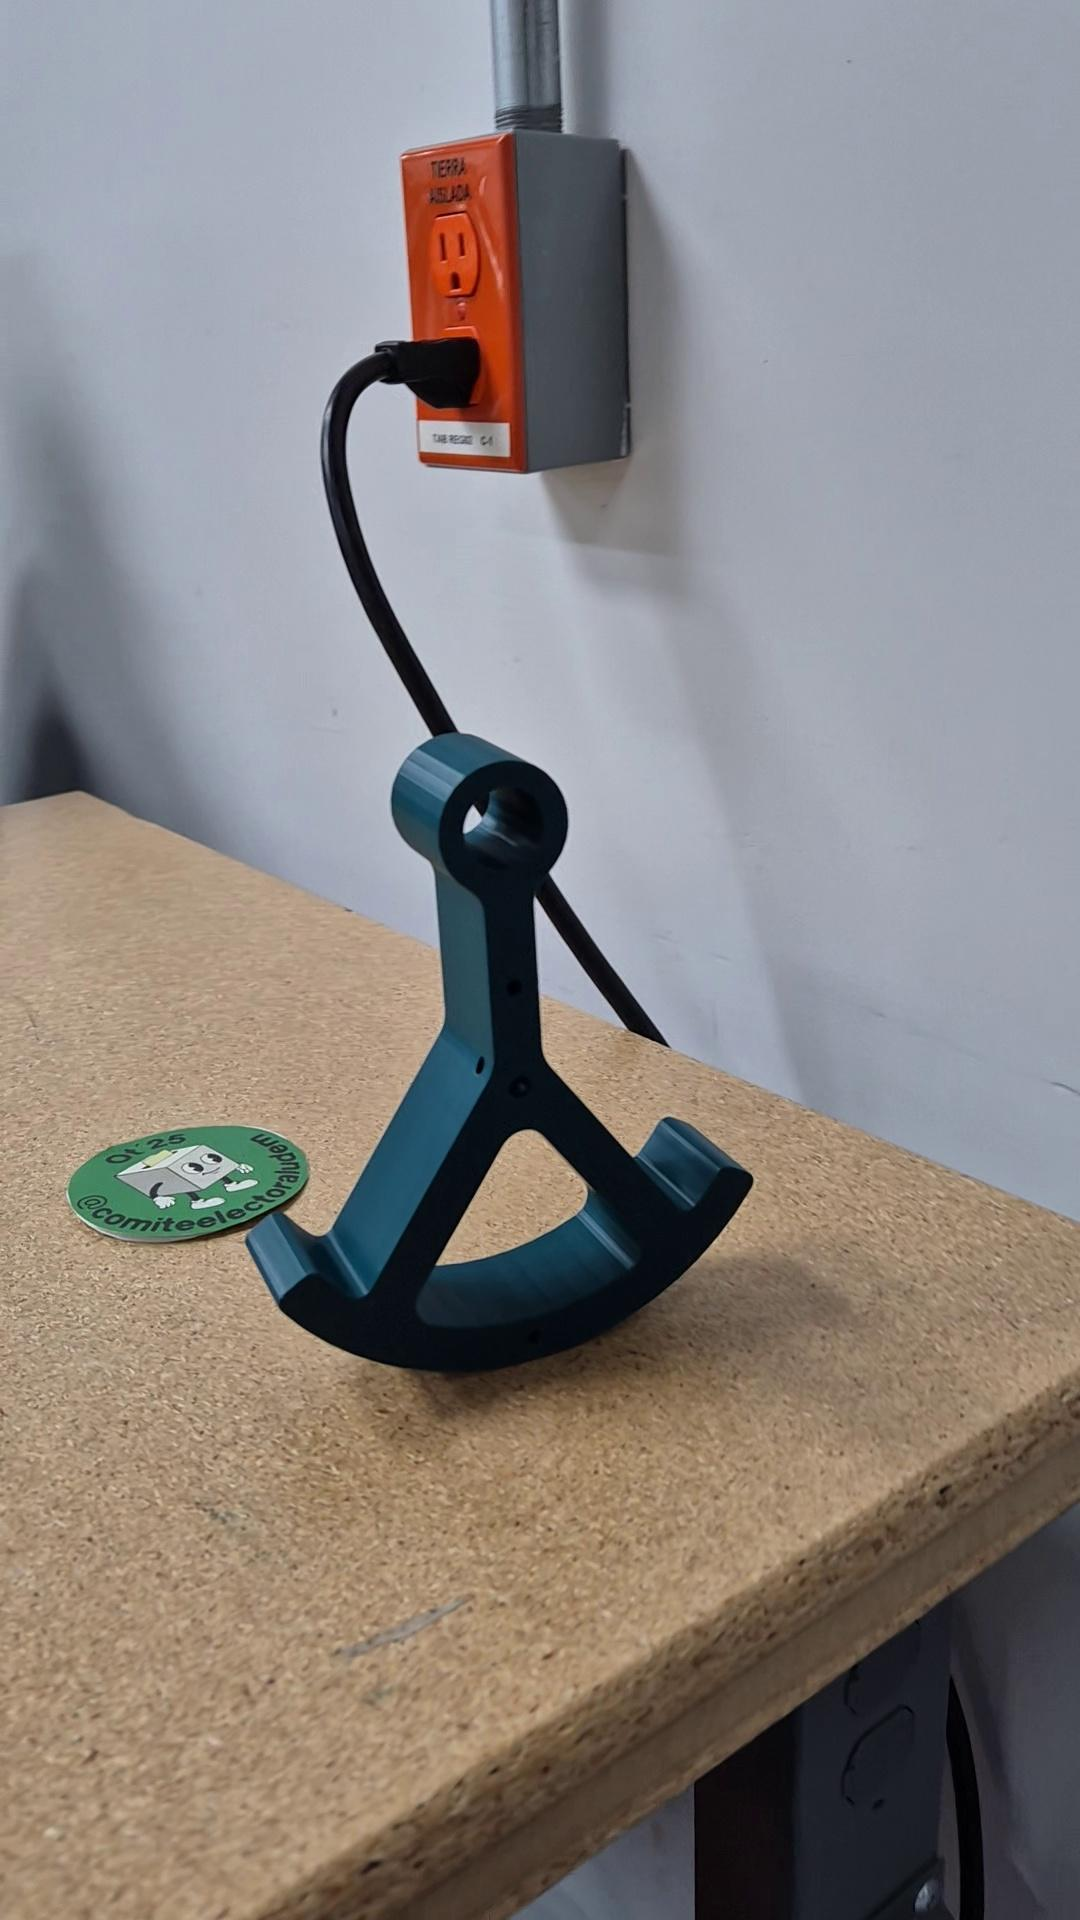Paddles: (243, 731, 756, 1375)
